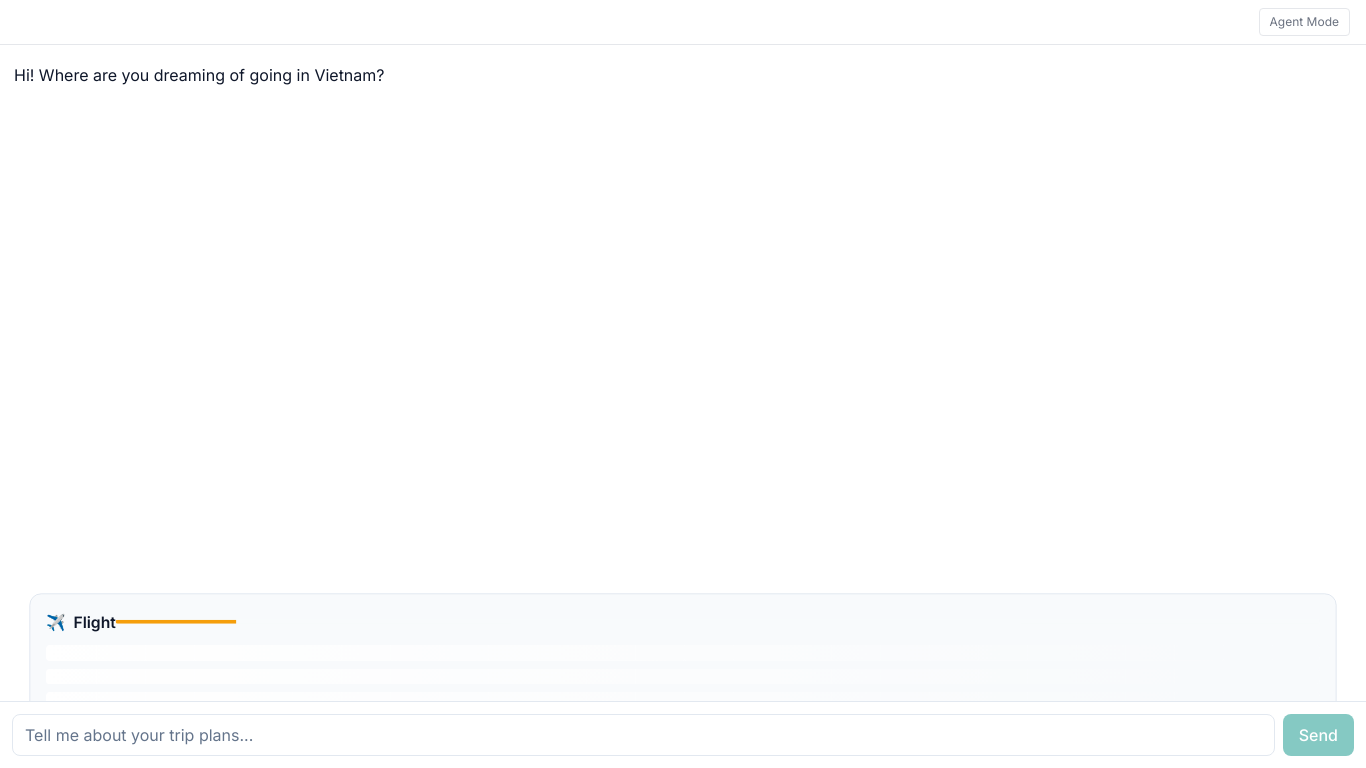
Test case: DemoPage — destination card (AC2, AC3, AC4, AC5, AC6) › AC2: destination card tap + Enter (immediate advance) → card hidden, narration present
In the field with test id "chat-input": (643,735) [12,714,1275,756], type "I want to travel"
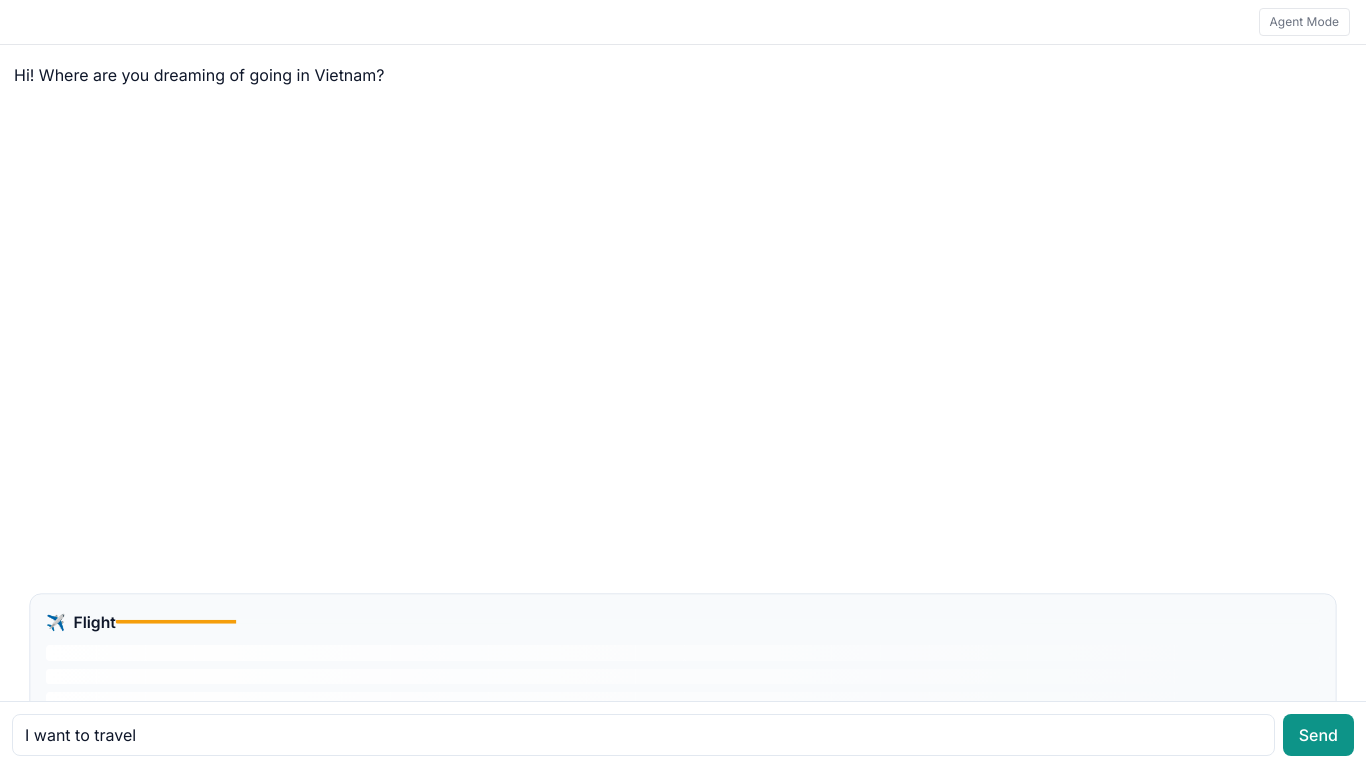
Submit the form with test id "chat-input", box [0,702,1365,767]
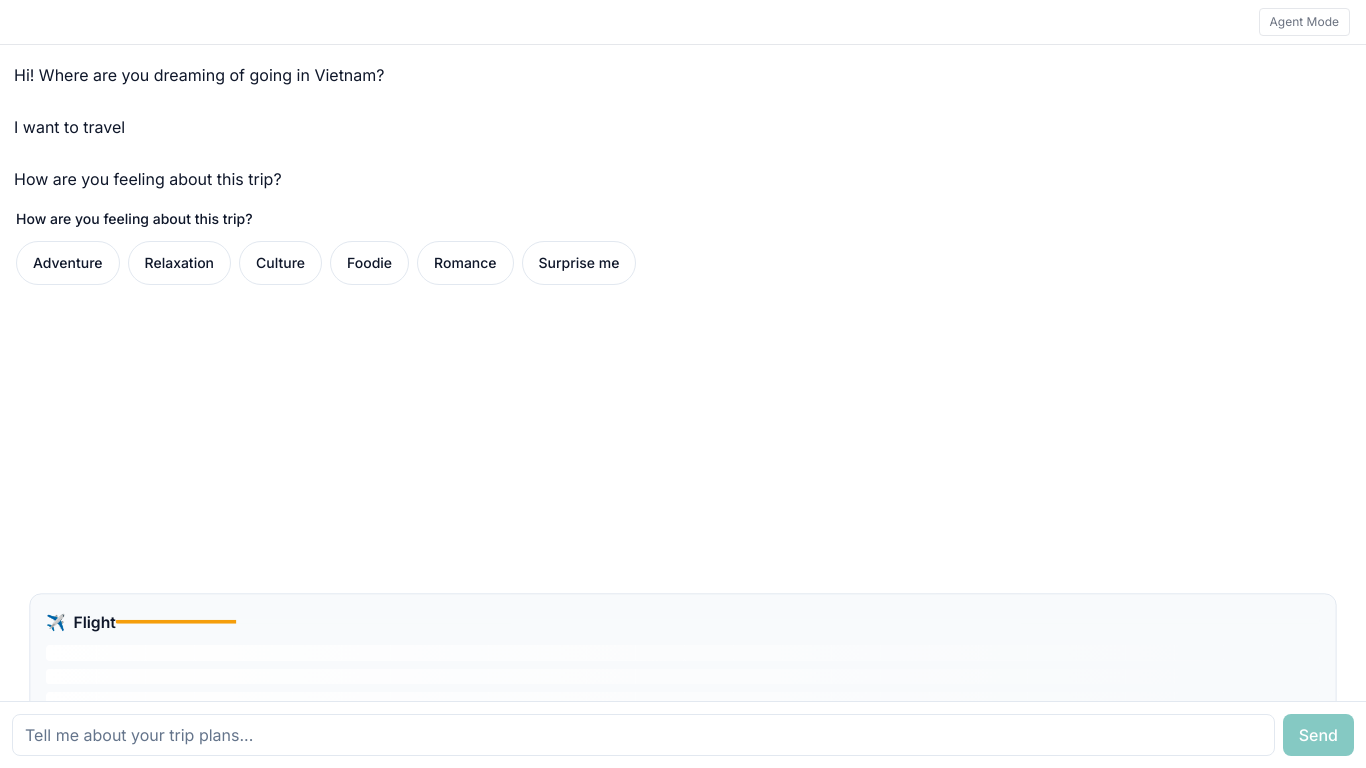
Click the radio button labelled "Adventure": (68,263) [16,241,120,285]
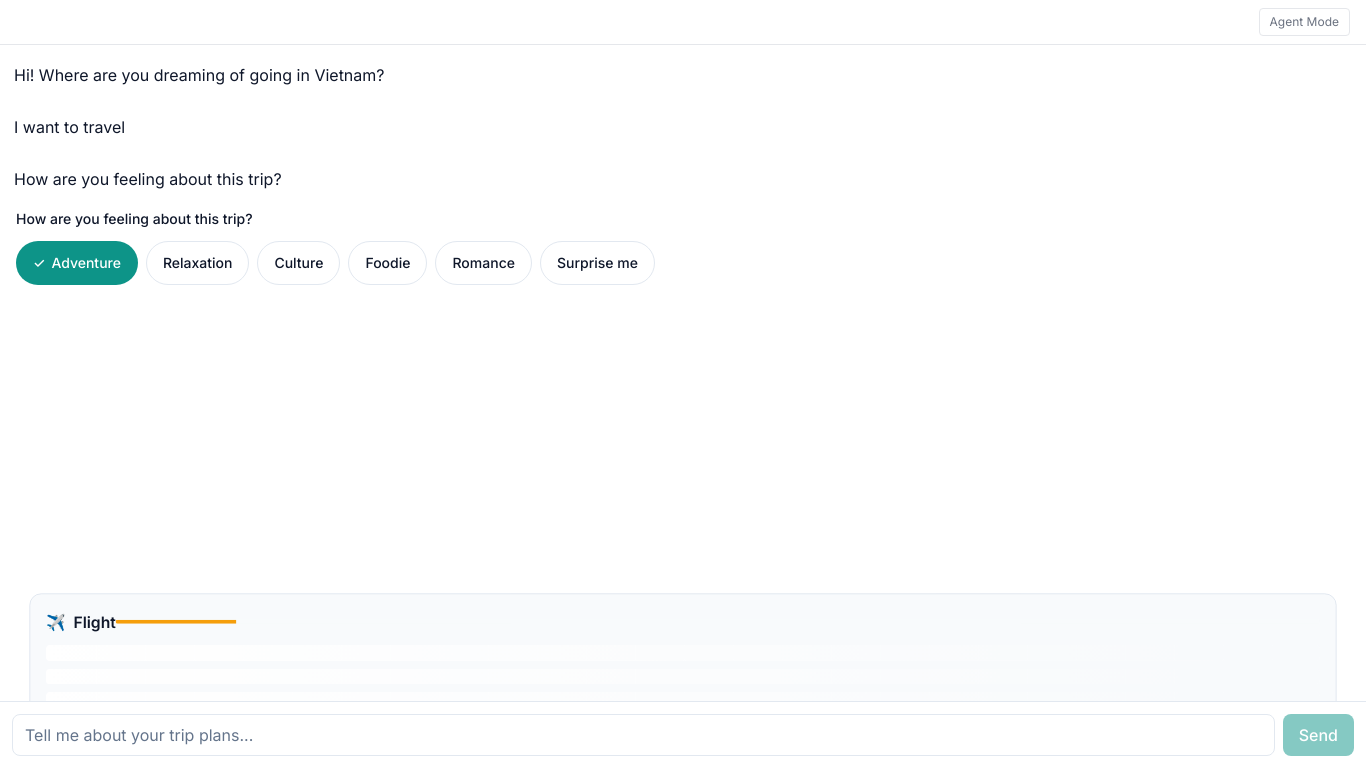
Press Enter in the radio button labelled "✓ Adventure", box [16,241,138,285]
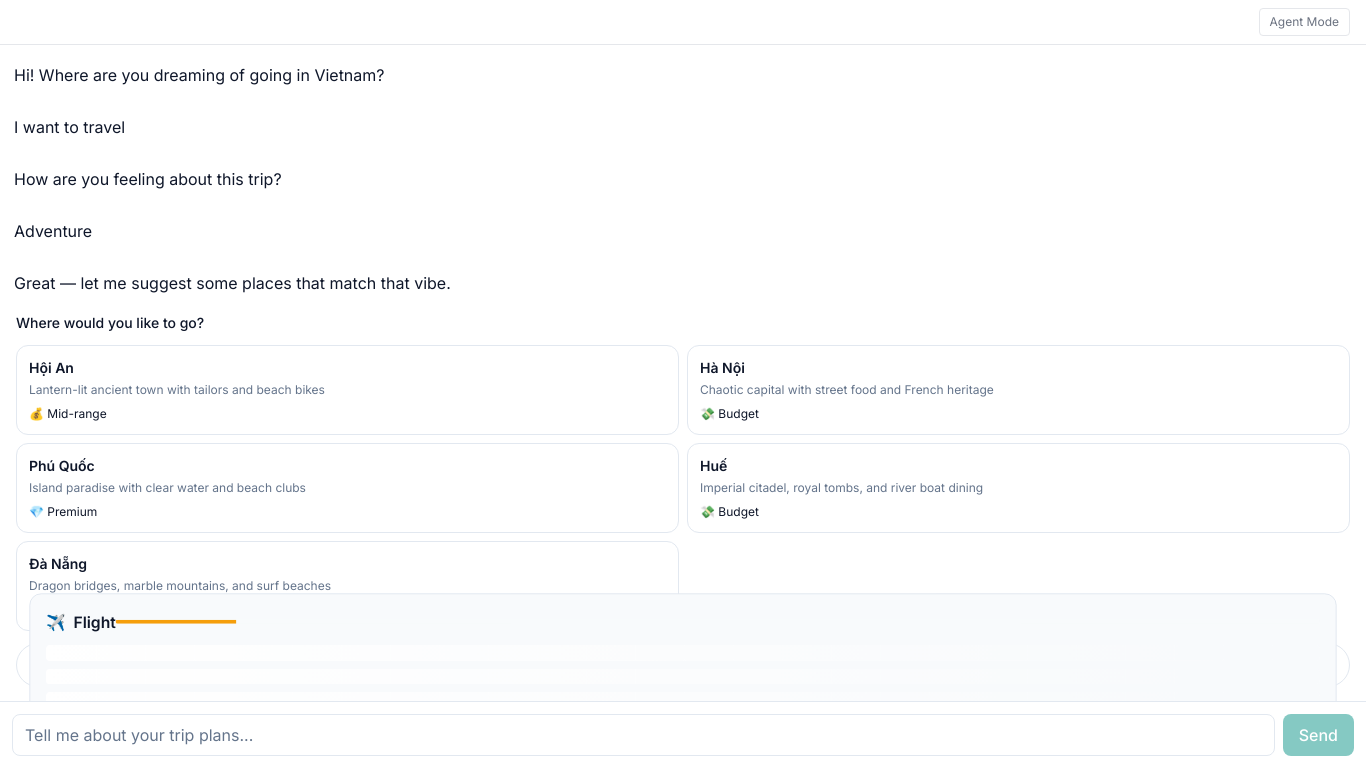
Click the radio button labelled "Hội An": (51,368) [16,345,679,435]
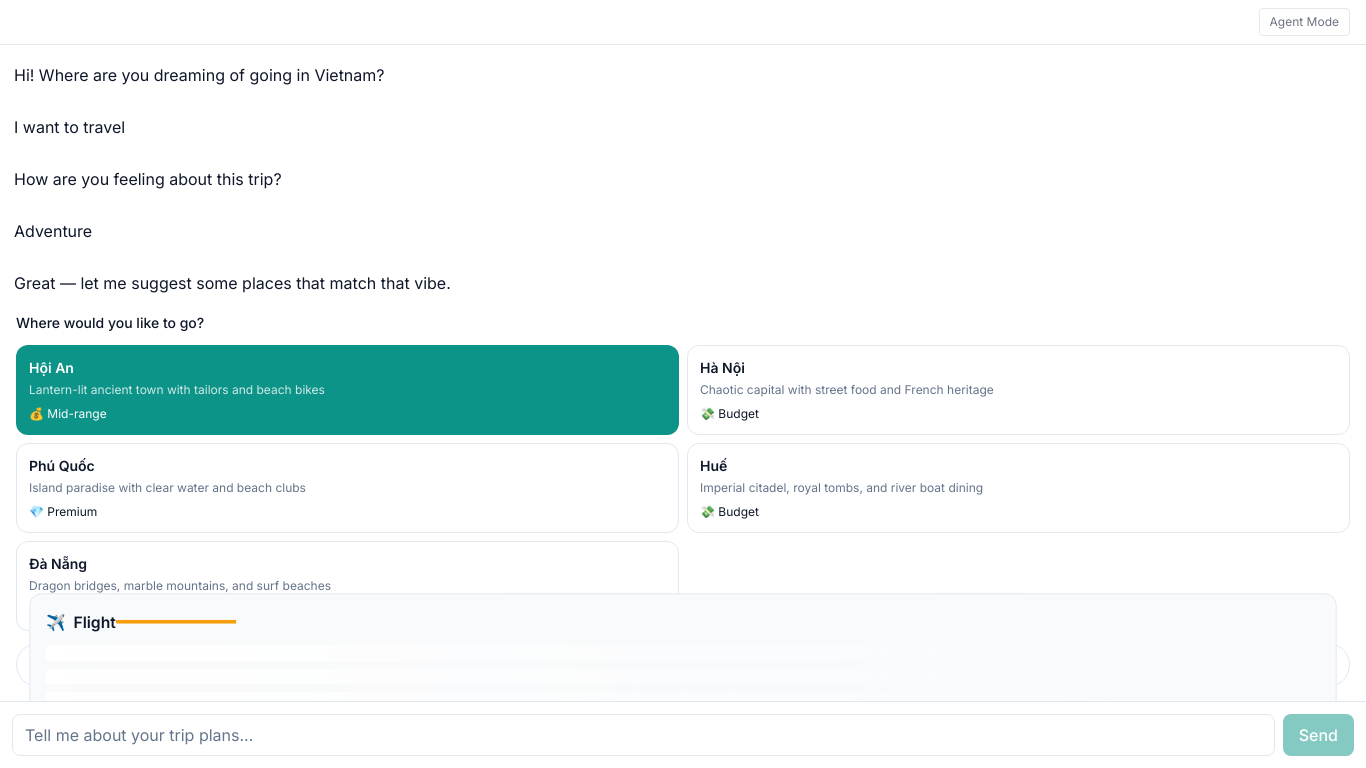
Press Enter in the radio button labelled "Hội An", box [16,345,679,435]
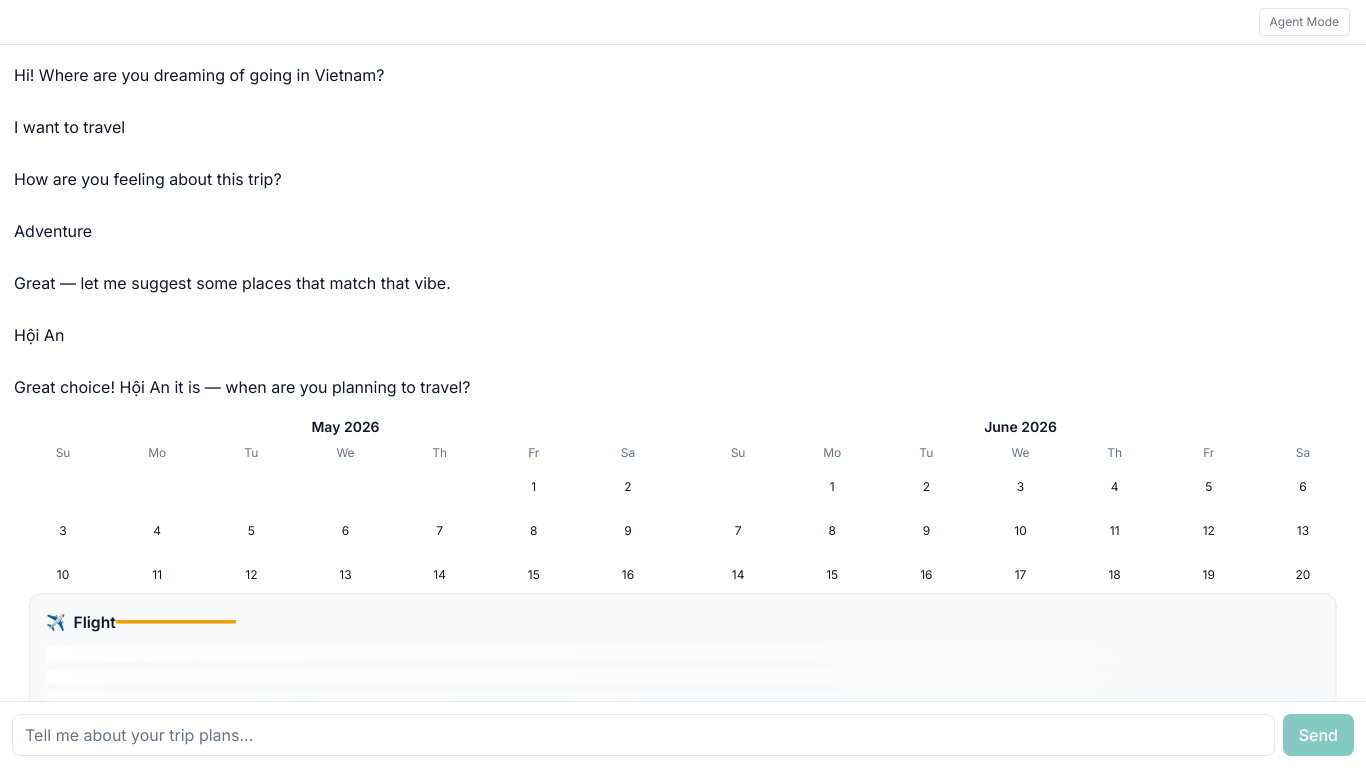
Now the text "Great choice!" is shown, box [14,377,470,397]
